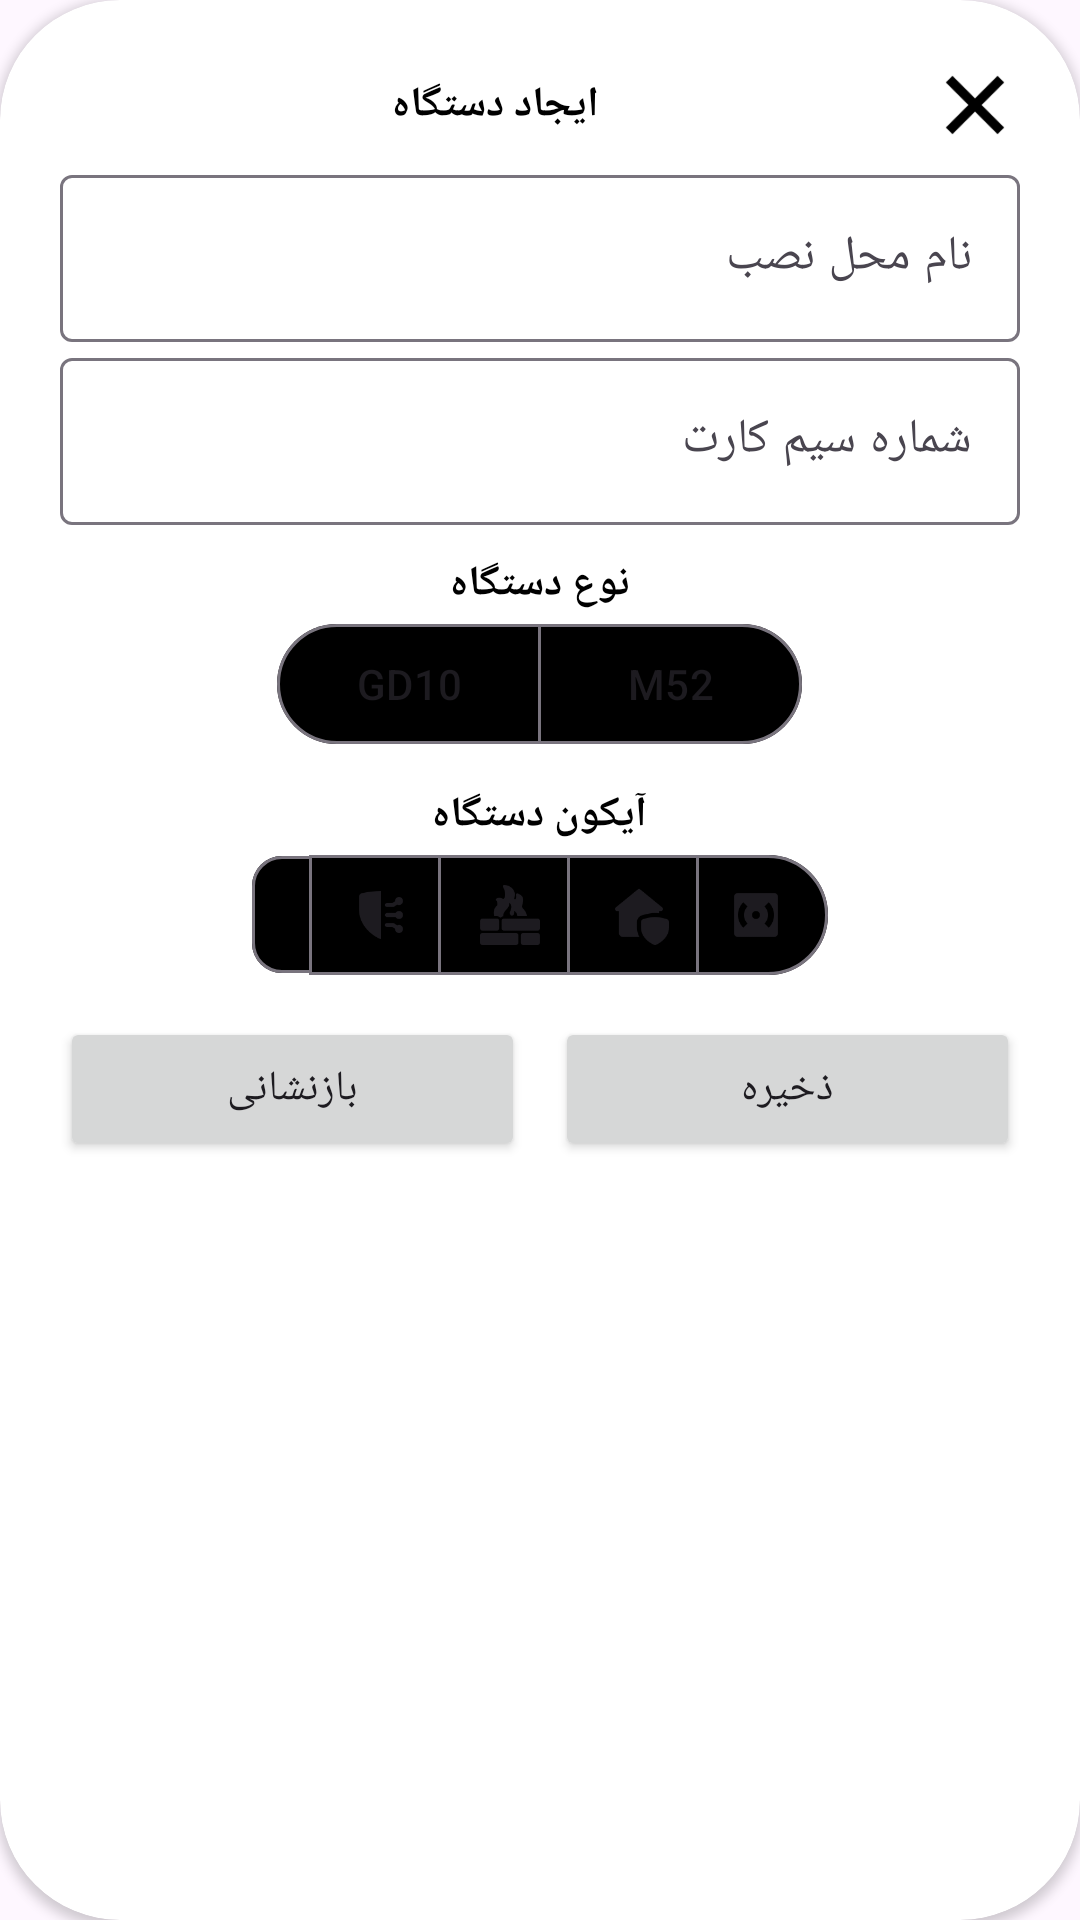

Icons on this 1080 x 1920 Android screen, each with the point to tap as [x,y]:
close: [975,105]
